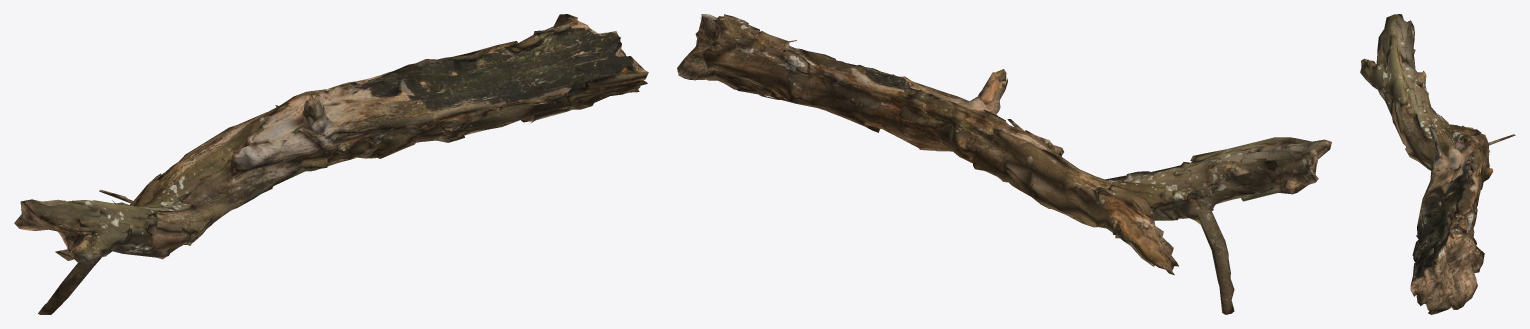
Rendered from dead_tree_trunk_02.glb.
3 views of the same model, side by side, from view 1: azimuth 30°, elevation 25°; view 2: azimuth 150°, elevation 25°; view 3: azimuth 270°, elevation 25° (orthographic). The views are drawn at different scales.
Parts seen in each view (by area): view 1: dead_tree_trunk_02; view 2: dead_tree_trunk_02; view 3: dead_tree_trunk_02.
Part boxes in pixels (x1,y1,x2,y2): dead_tree_trunk_02: [14, 14, 648, 314]; dead_tree_trunk_02: [677, 14, 1331, 314]; dead_tree_trunk_02: [1360, 14, 1515, 314].
Bounding box in the file's own units: 4.05 × 1.05 × 1.05.
Materials: 1 (1 with a texture image).
